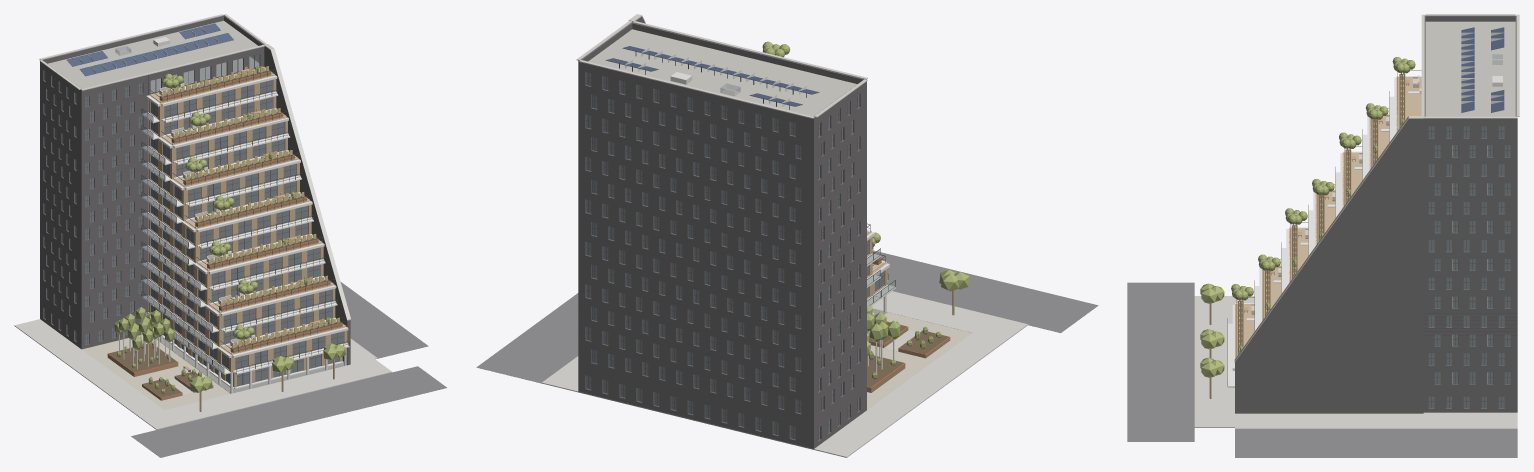
Rendered from clay-terraced-stepped-tower-clay-v002.glb.
3 renders of one model, left to right at view 1: azimuth 30°, elevation 25°; view 2: azimuth 150°, elevation 25°; view 3: azimuth 270°, elevation 25°, orthographic. The views are drawn at different scales.
Visible parts, largest first — view 1: CLAY_WALL, CLAY_GLASS, CLAY_TRIM, CLAY_WHITE, CLAY_TIMBER, CLAY_ASPHALT, CLAY_CONCRETE, CLAY_HARDWARE, CLAY_PLANTING, CLAY_CORTEN, CLAY_GRAVEL, CLAY_GRASS (+8 smaller); view 2: CLAY_WALL, CLAY_TRIM, CLAY_GLASS, CLAY_ASPHALT, CLAY_CONCRETE, CLAY_GRAVEL, CLAY_SAND, CLAY_PLANTING, CLAY_SOLAR, CLAY_SOIL, CLAY_PALE, CLAY_CORTEN (+1 smaller); view 3: CLAY_WALL, CLAY_ASPHALT, CLAY_CONCRETE, CLAY_GRAVEL, CLAY_TRIM, CLAY_GLASS, CLAY_PLANTING, CLAY_WHITE, CLAY_DECK, CLAY_SOIL, CLAY_SOLAR, CLAY_TIMBER (+5 smaller).
Part boxes in pixels (x1,y1,x2,y2): CLAY_WALL: (40,15,350,365); CLAY_GLASS: (44,46,343,386); CLAY_TRIM: (44,54,343,386); CLAY_WHITE: (141,75,349,393); CLAY_TIMBER: (140,66,347,411); CLAY_ASPHALT: (131,282,446,457); CLAY_CONCRETE: (14,14,391,429); CLAY_HARDWARE: (72,26,349,373); CLAY_PLANTING: (114,65,345,393); CLAY_CORTEN: (107,71,342,400); CLAY_GRAVEL: (48,20,257,88); CLAY_GRASS: (161,66,339,348); CLAY_WALL: (578,17,866,448); CLAY_TRIM: (586,72,884,440); CLAY_GLASS: (586,72,895,439); CLAY_ASPHALT: (476,250,1098,383); CLAY_CONCRETE: (541,14,1028,457); CLAY_GRAVEL: (588,29,857,116); CLAY_SAND: (867,312,971,409); CLAY_PLANTING: (762,41,969,379); CLAY_SOLAR: (605,46,819,106); CLAY_SOIL: (867,258,948,387); CLAY_PALE: (625,47,806,106); CLAY_CORTEN: (867,258,950,392); CLAY_WALL: (1235,15,1517,413); CLAY_ASPHALT: (1127,282,1517,457); CLAY_CONCRETE: (1194,14,1519,429); CLAY_GRAVEL: (1425,21,1515,116); CLAY_TRIM: (1244,84,1510,408); CLAY_GLASS: (1428,54,1510,408); CLAY_PLANTING: (1200,57,1415,377); CLAY_WHITE: (1227,76,1421,387); CLAY_DECK: (1237,77,1421,355); CLAY_SOIL: (1238,74,1404,354); CLAY_SOLAR: (1461,27,1504,112); CLAY_TIMBER: (1209,73,1421,398).
Size of the model in its own units: 61.6 by 48.61 by 58.29.
